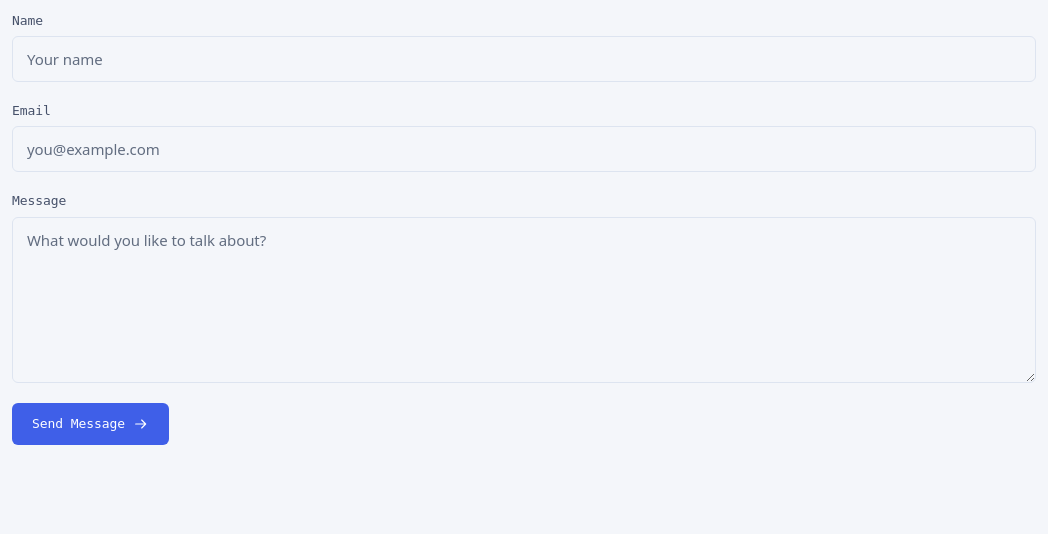
Scenario: ContactForm › shows inline errors, focuses the first invalid field and never fetches
Click the button "Send Message".
click(90, 424)  # box top-left (12, 403), bottom-right (169, 445)
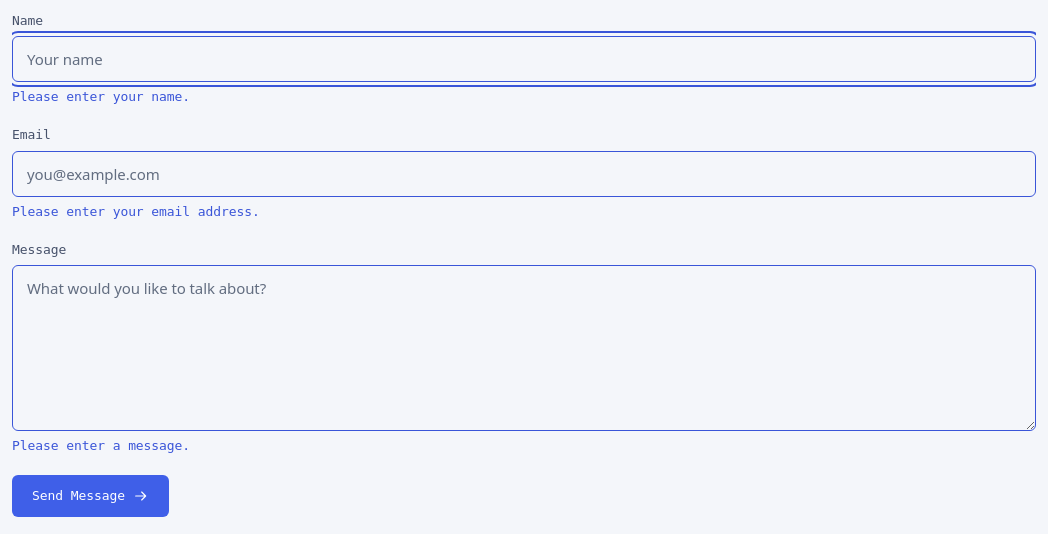
Expected: the text "Please enter your name." is shown, top-left (12, 89), bottom-right (190, 104)
Expected: the text "Please enter your email address." is shown, top-left (12, 204), bottom-right (260, 219)
Expected: the text "Please enter a message." is shown, top-left (12, 438), bottom-right (190, 453)
